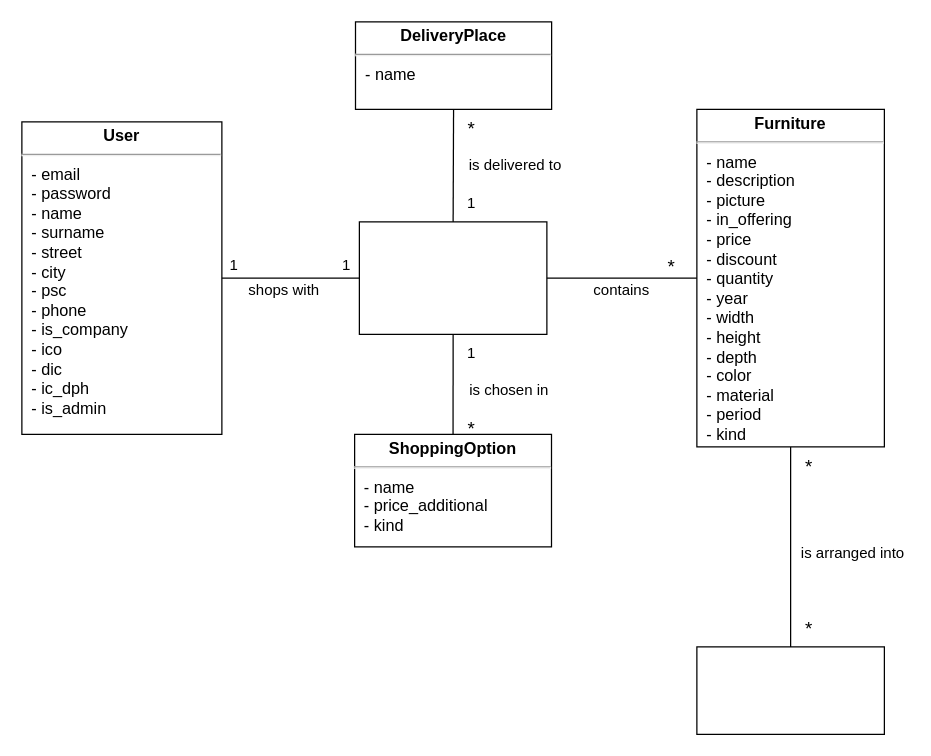
The diagram is 931 pixels wide and 756 high, and some of its shapes have lost their labels. The centre of each missing label's shape, as x and y in pixels:
Category - name - kind: pixel 790 690
ShoppingCart - quantity - transport - payment: pixel 452 277
